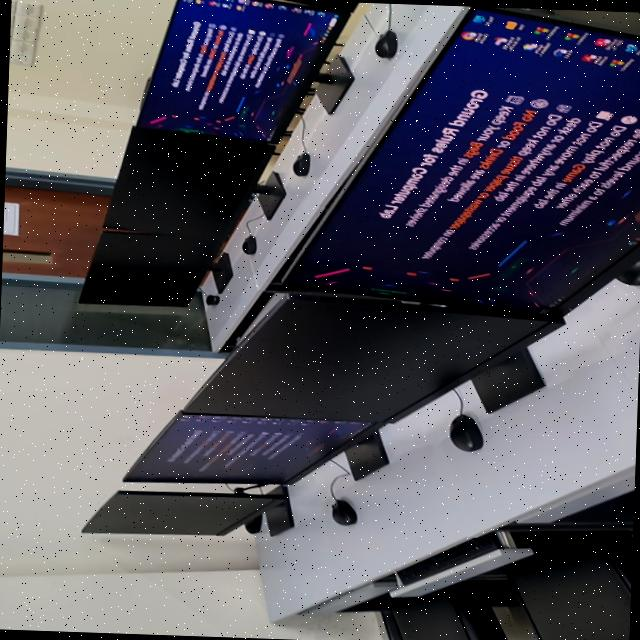Chair: (507, 531, 633, 640), (390, 580, 516, 640)
Monitor: (288, 5, 640, 311), (185, 293, 558, 422), (137, 0, 347, 140), (104, 126, 274, 239), (127, 411, 371, 482), (79, 220, 226, 305), (82, 489, 285, 534)
Mouse: (450, 413, 483, 451), (615, 257, 640, 284), (331, 498, 356, 524), (375, 28, 397, 57), (293, 151, 309, 175), (245, 513, 261, 532), (241, 235, 256, 253), (204, 294, 218, 304)
